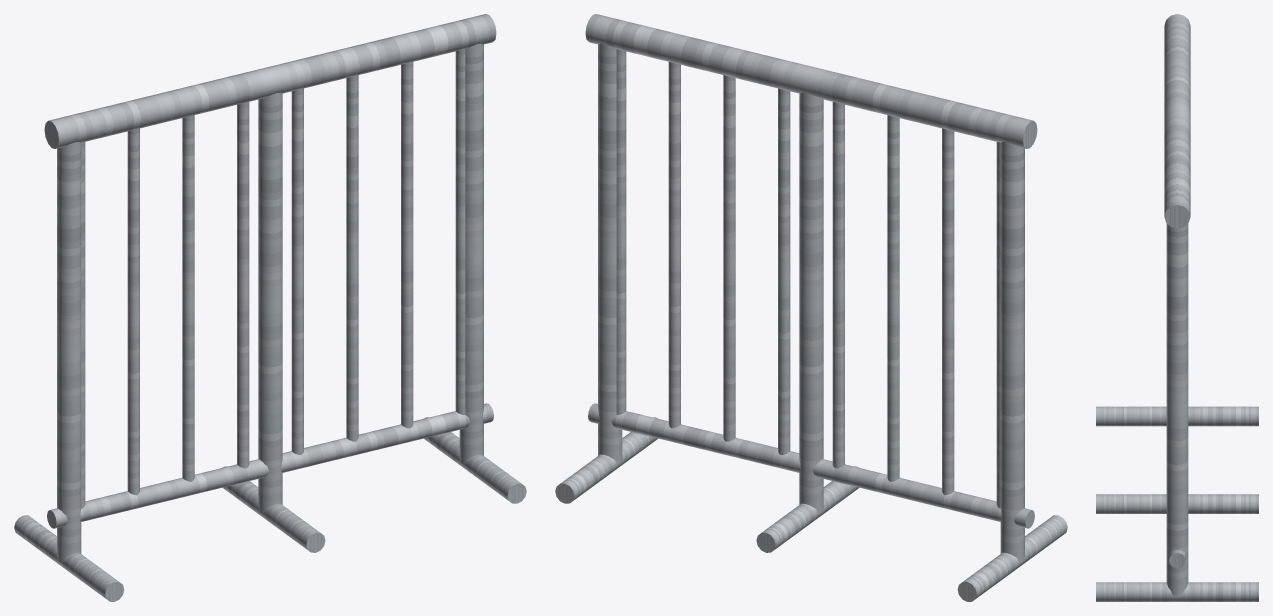
File: fence-iron.glb
3 renders of one model, left to right at view 1: azimuth 30°, elevation 25°; view 2: azimuth 150°, elevation 25°; view 3: azimuth 270°, elevation 25°, orthographic. The views are drawn at different scales.
Visible parts, largest first — view 1: FenceIron; view 2: FenceIron; view 3: FenceIron.
Boxes of the visible parts, x1,y1,x2,y2 form: FenceIron: (14,14,526,601); FenceIron: (555,14,1067,601); FenceIron: (1096,14,1258,601).
Size of the model in its own units: 1 by 0.986 by 0.36.
1 material, 1 textured.
